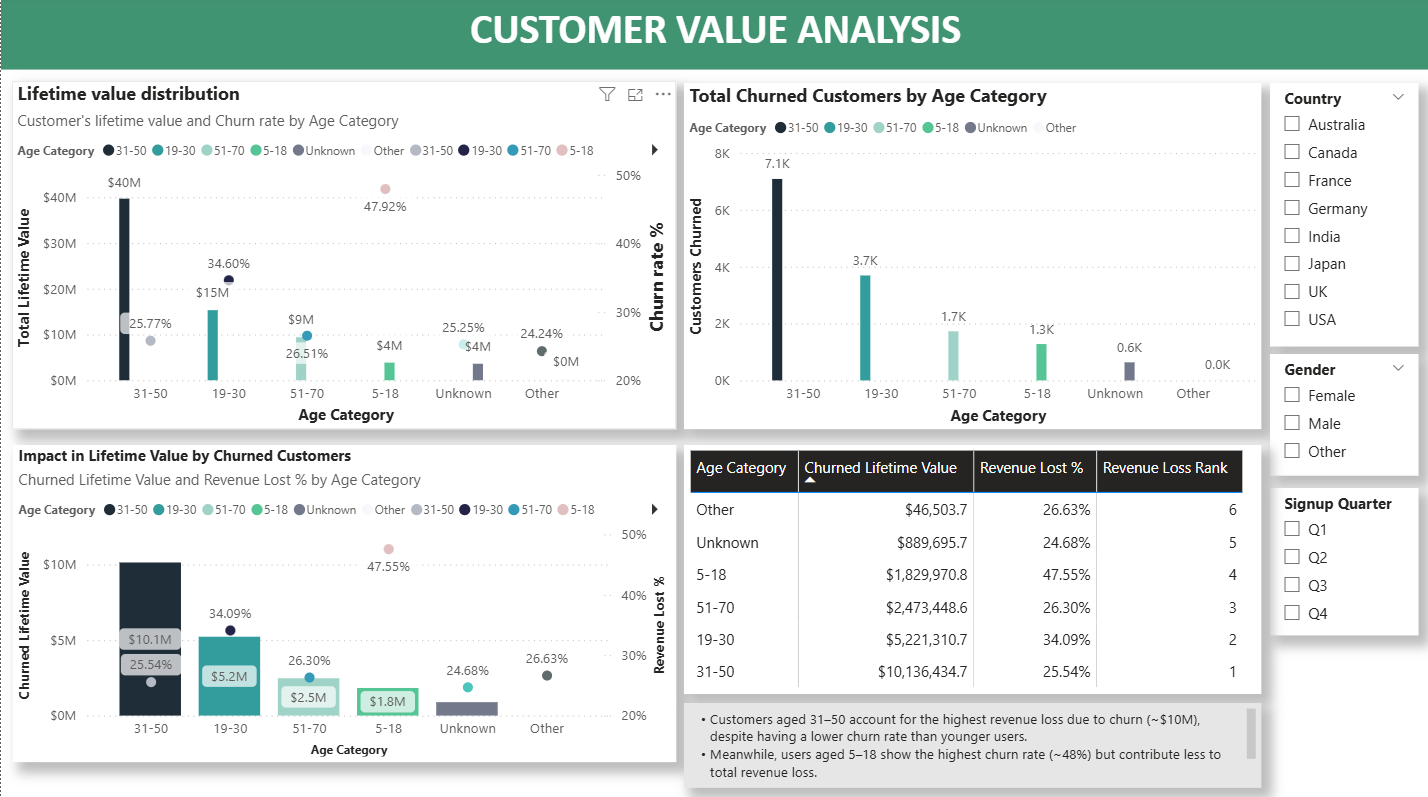

The dashboard page shown, as its layout file describes it:
{"tool":"powerbi","page":{"name":"Customer Value Analysis","canvas":[1280,720],"ordinal":5},"visuals":[{"type":"textbox","box":[0,0,1279.7,65.4],"z":0},{"type":"lineClusteredColumnComboChart","title":"Lifetime value distribution","fields":{"Category":["ecommerce_customer_churn_dataset.Age Category"],"Y":["Sum(ecommerce_customer_churn_dataset.Lifetime_Value)"],"Y2":["ecommerce_customer_churn_dataset.Churn rate %"],"Series":["ecommerce_customer_churn_dataset.Age Category"]},"box":[9.9,75.2,594.6,311.6],"z":1000},{"type":"clusteredColumnChart","title":"Total Churned Customers by Age Category","fields":{"Y":["Sum(ecommerce_customer_churn_dataset.Churned)"],"Category":["ecommerce_customer_churn_dataset.Age Category"],"Series":["ecommerce_customer_churn_dataset.Age Category"]},"box":[612,77,517,310],"z":2000},{"type":"slicer","fields":{"Values":["ecommerce_customer_churn_dataset.Country"]},"box":[1136,77,133,236],"z":3000},{"type":"slicer","fields":{"Values":["ecommerce_customer_churn_dataset.Gender"]},"box":[1136,320,133,109],"z":4000},{"type":"slicer","fields":{"Values":["ecommerce_customer_churn_dataset.Signup_Quarter"]},"box":[1136,440,133,132],"z":5000},{"type":"lineStackedColumnComboChart","title":"Impact in Lifetime Value by Churned Customers","fields":{"Category":["ecommerce_customer_churn_dataset.Age Category"],"Y":["ecommerce_customer_churn_dataset.Churned Lifetime Value"],"Y2":["ecommerce_customer_churn_dataset.Revenue Lost %"],"Series":["ecommerce_customer_churn_dataset.Age Category"]},"box":[11,401,594,284],"z":6000},{"type":"tableEx","fields":{"Values":["ecommerce_customer_churn_dataset.Age Category","ecommerce_customer_churn_dataset.Churned Lifetime Value","ecommerce_customer_churn_dataset.Revenue Lost %","ecommerce_customer_churn_dataset.Revenue Loss Rank"]},"box":[612,401,517,223],"z":7000},{"type":"textbox","box":[612,632,517,76],"z":8000}]}

Visuals, with their boxes in screenshot pixels (x1, y1, x2, y2), scaled from the page's 1280x720 canvas onto the 1428x797 screenshot:
textbox: <region>0, 0, 1427, 72</region>
"Lifetime value distribution" lineClusteredColumnComboChart: <region>11, 83, 674, 428</region>
"Total Churned Customers by Age Category" clusteredColumnChart: <region>683, 85, 1260, 428</region>
slicer - ecommerce_customer_churn_dataset.Country: <region>1267, 85, 1416, 346</region>
slicer - ecommerce_customer_churn_dataset.Gender: <region>1267, 354, 1416, 475</region>
slicer - ecommerce_customer_churn_dataset.Signup_Quarter: <region>1267, 487, 1416, 633</region>
"Impact in Lifetime Value by Churned Customers" lineStackedColumnComboChart: <region>12, 444, 675, 758</region>
tableEx - ecommerce_customer_churn_dataset.Age Category x ecommerce_customer_churn_dataset.Churned Lifetime Value: <region>683, 444, 1260, 691</region>
textbox: <region>683, 700, 1260, 784</region>
